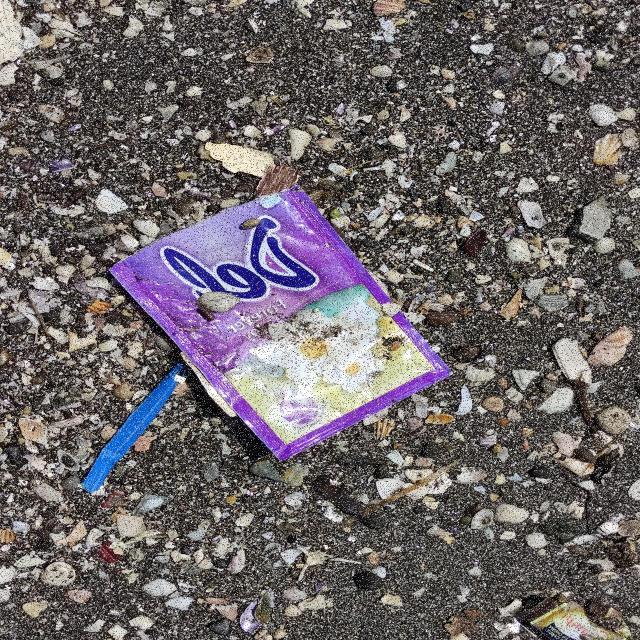plastic_waste: (110, 182, 459, 465)
